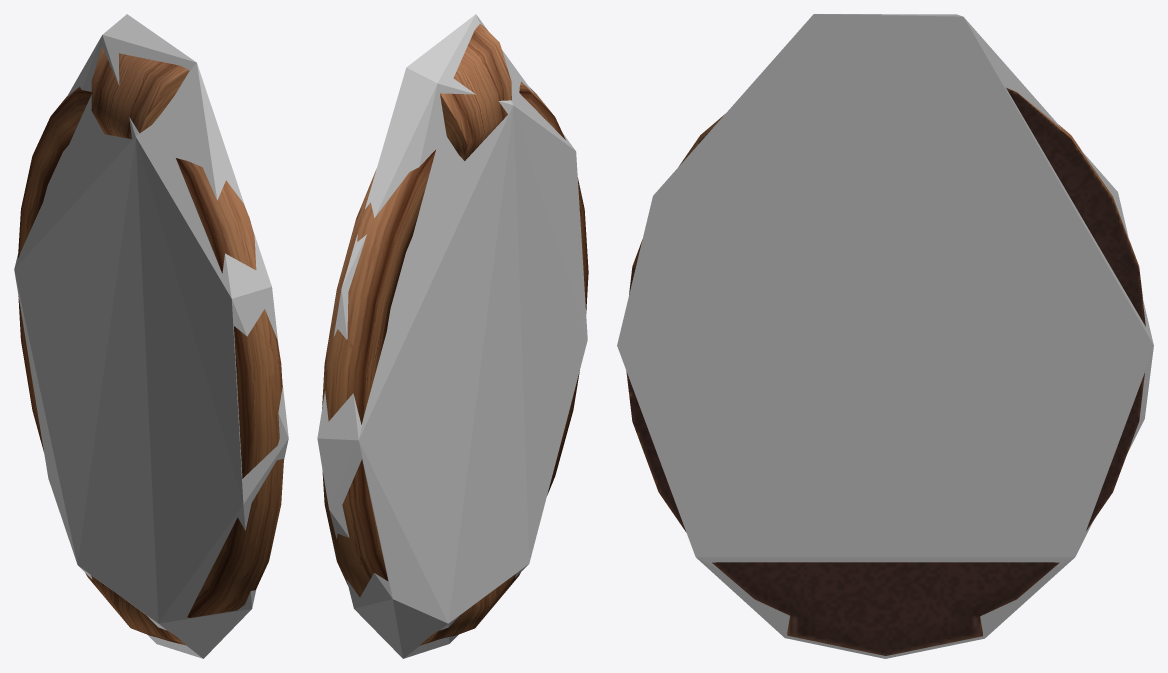
File: SM_BathMirror01.fbx
3 views of the same model, side by side, from view 1: azimuth 30°, elevation 25°; view 2: azimuth 150°, elevation 25°; view 3: azimuth 270°, elevation 25° (orthographic). The views are drawn at different scales.
Visible parts, largest first — view 1: SM_BathMirror01_ConvexHulls, SM_BathMirror01; view 2: SM_BathMirror01_ConvexHulls, SM_BathMirror01; view 3: SM_BathMirror01_ConvexHulls, SM_BathMirror01.
Boxes of the visible parts, x1,y1,x2,y2 form: SM_BathMirror01_ConvexHulls: (14, 14, 288, 658); SM_BathMirror01: (18, 46, 283, 645); SM_BathMirror01_ConvexHulls: (317, 14, 587, 658); SM_BathMirror01: (322, 24, 588, 645); SM_BathMirror01_ConvexHulls: (617, 14, 1153, 658); SM_BathMirror01: (626, 87, 1145, 655).
Size of the model in its own units: 6.71 by 58.73 by 78.27.
2 materials, 1 textured.
